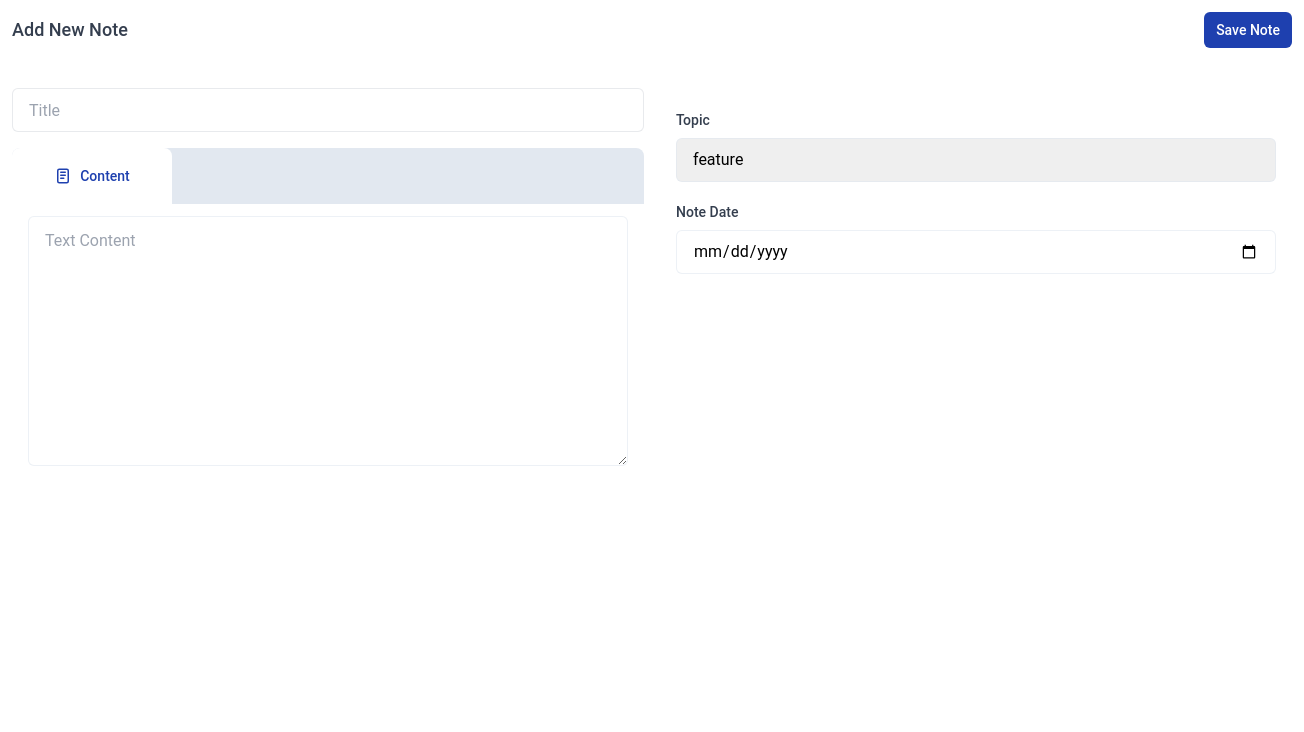
Test: AddNote › success adding a note › success banner should be visible after submit
Type "test" into the field with placeholder "Title" at (328, 110), box [12,88,644,132]
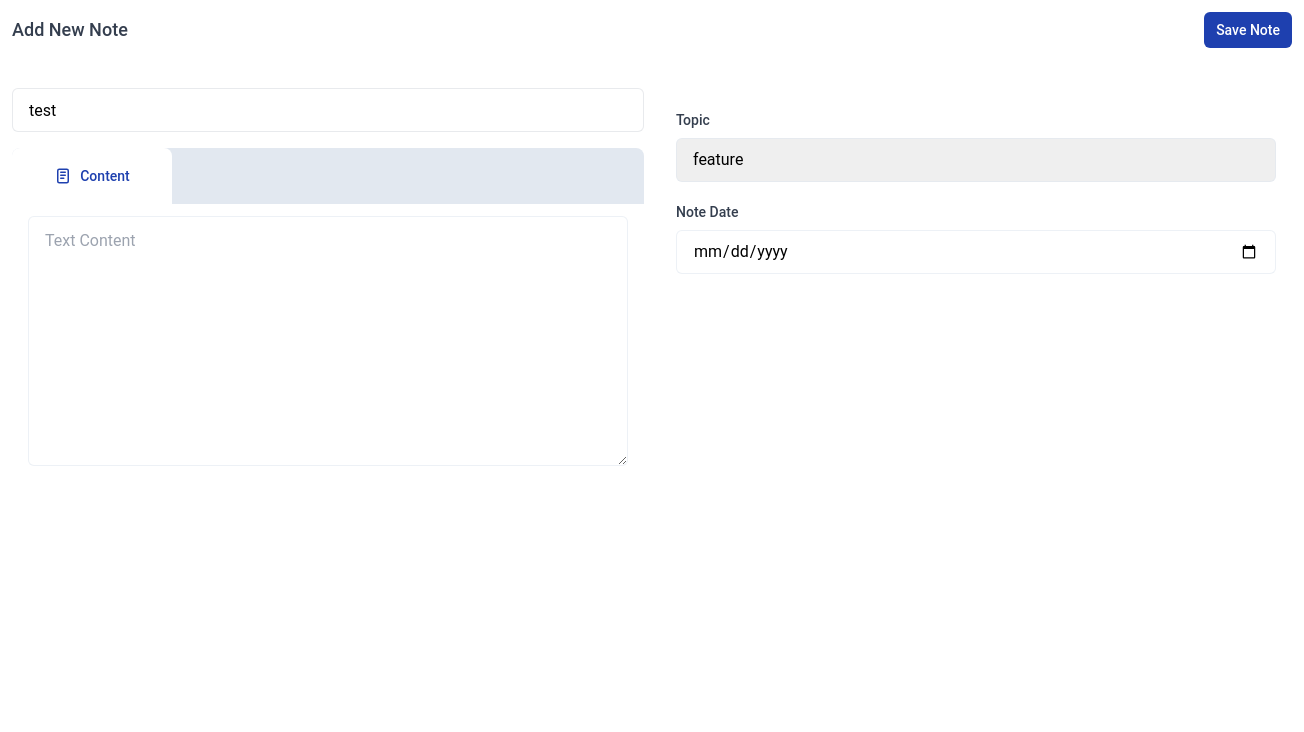
Type "test" into the text box with placeholder "Text Content" at (328, 341), box [28,216,628,466]
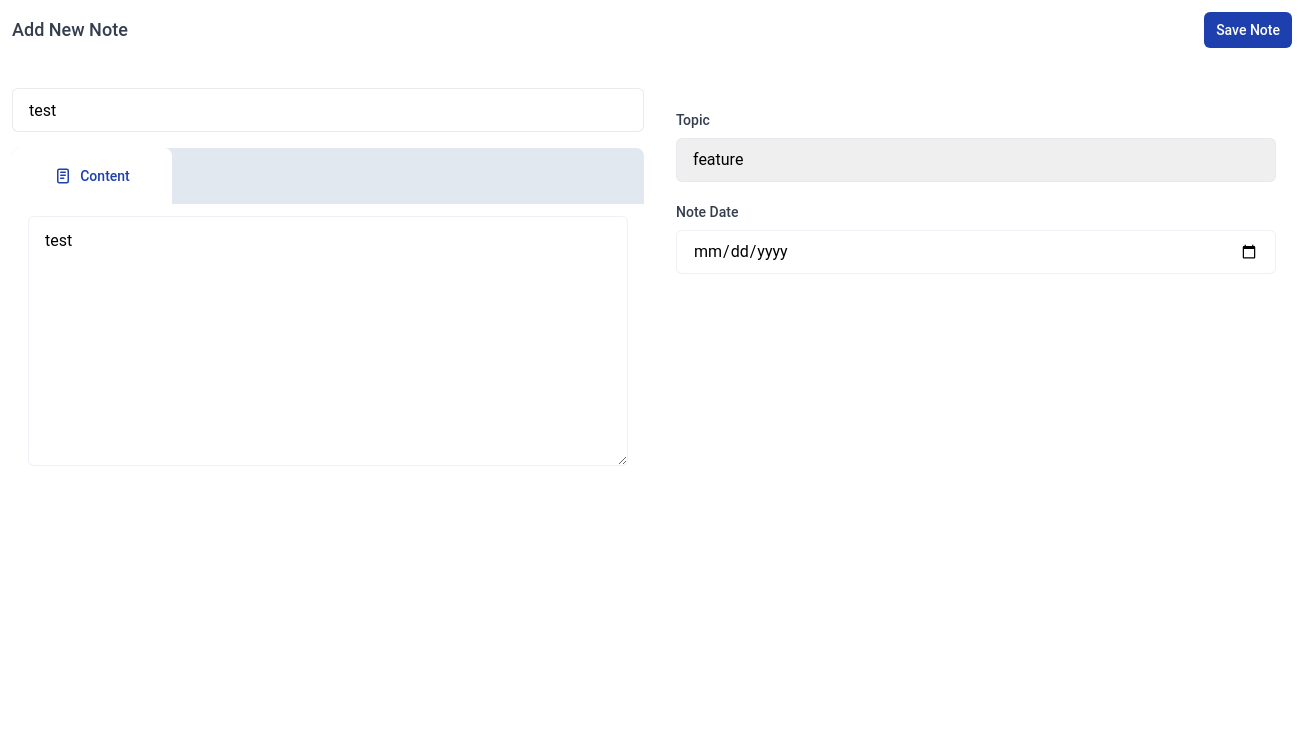
Select "test" in the dropdown at (976, 160), box [676,138,1276,182]
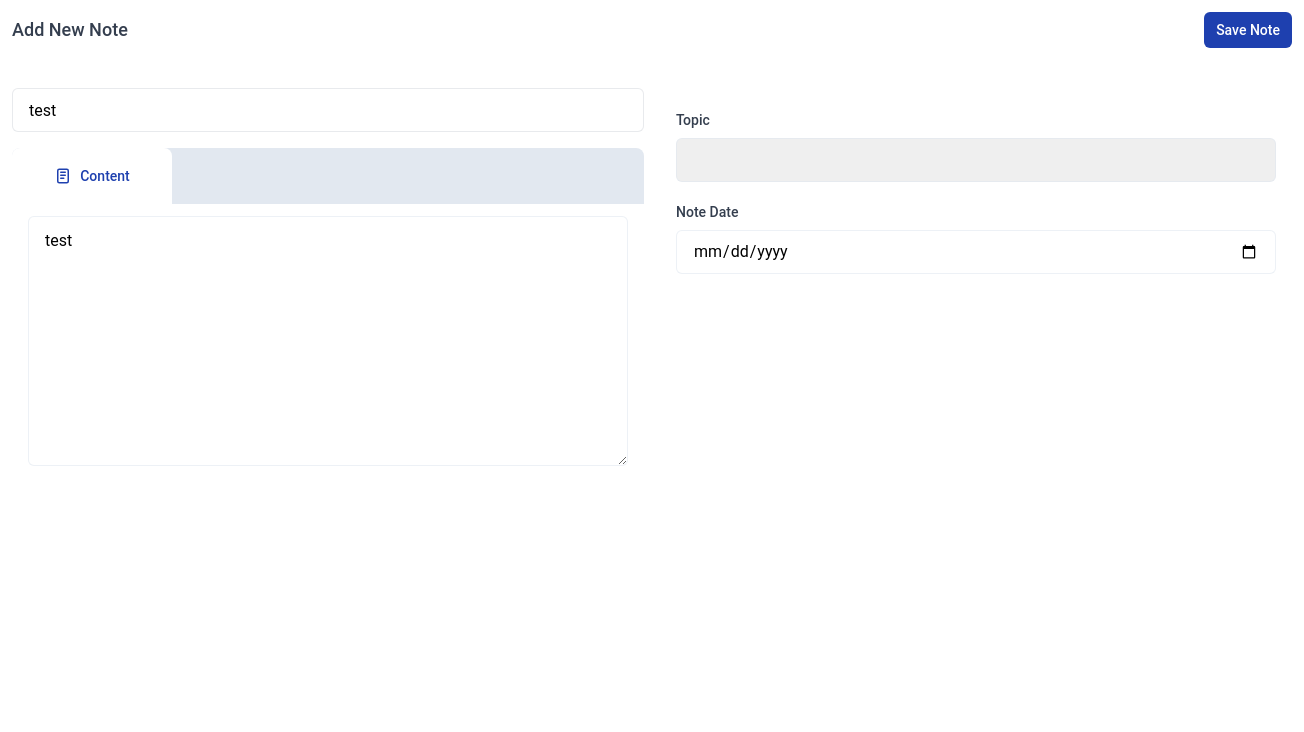
Type "2021-08-08" into the date field labelled "Date" at (976, 252), box [676,230,1276,274]
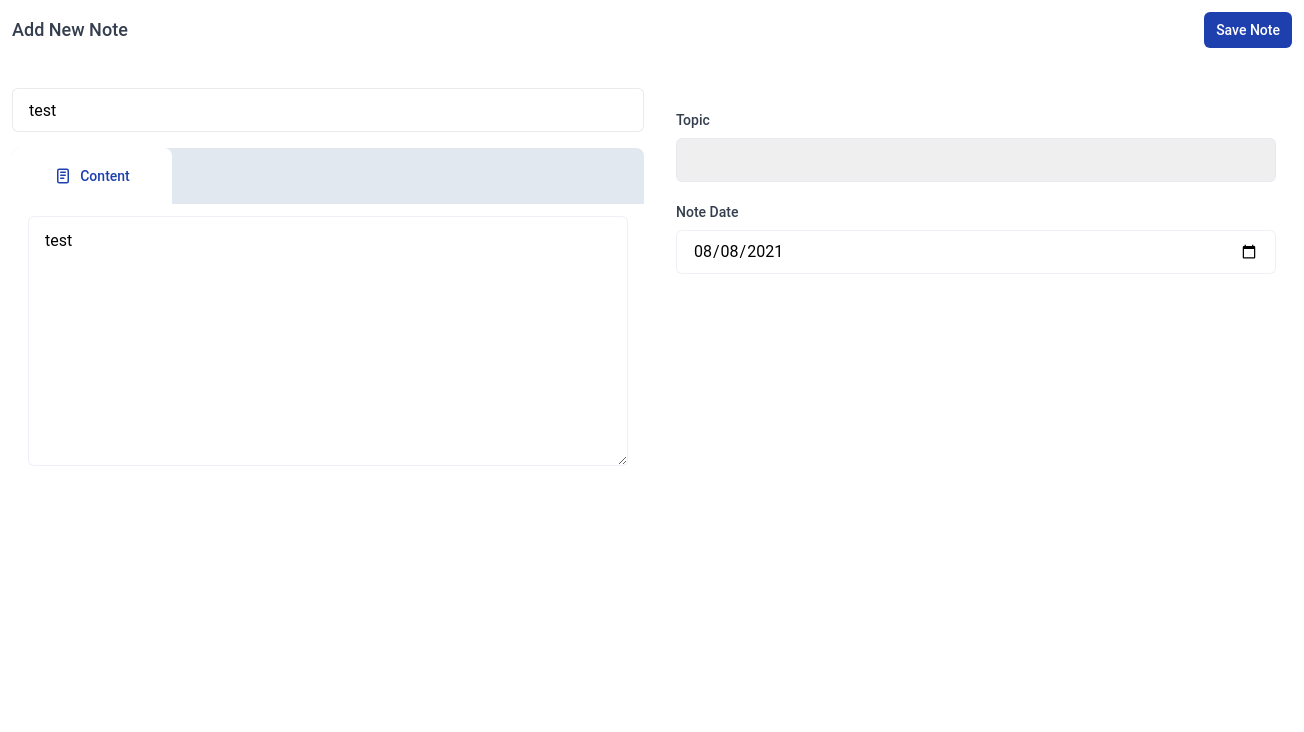
Click the button "Save Note" at (1248, 30), box [1204,12,1292,48]
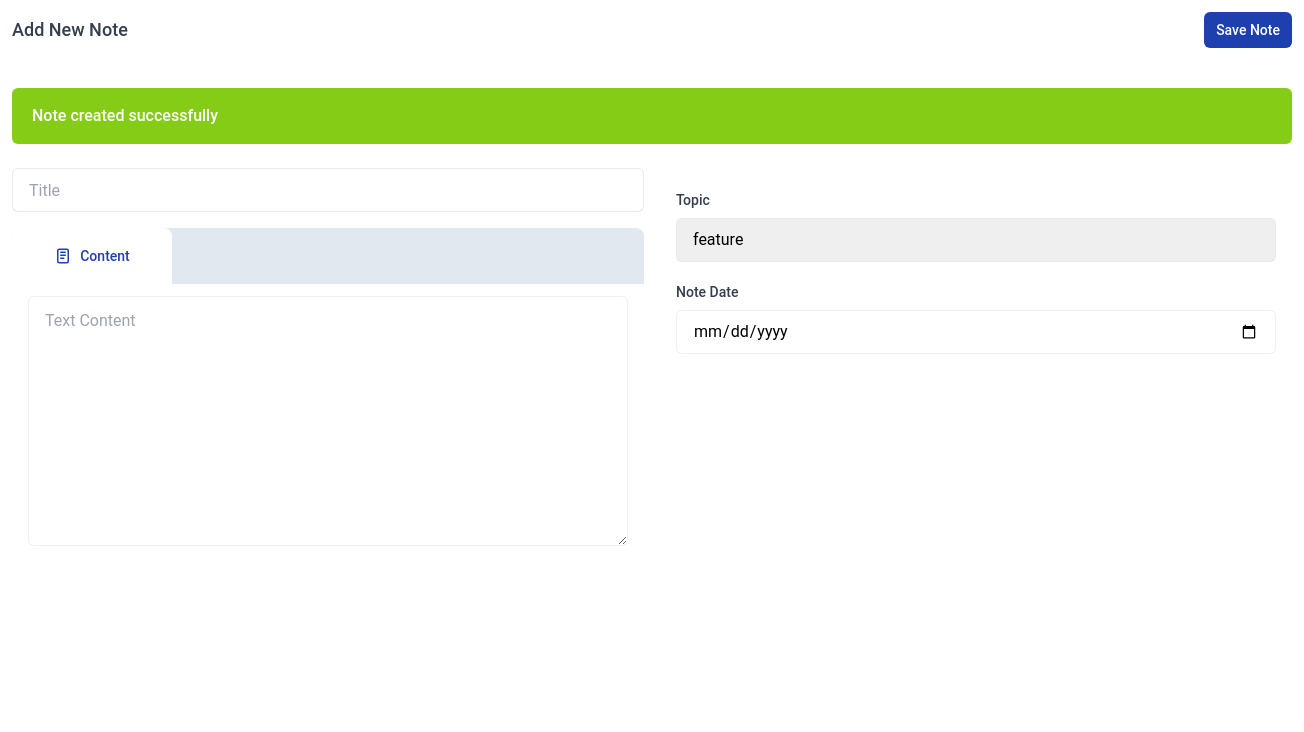
Result: the text "Note created successfully" is shown at [12,88,1292,144]
